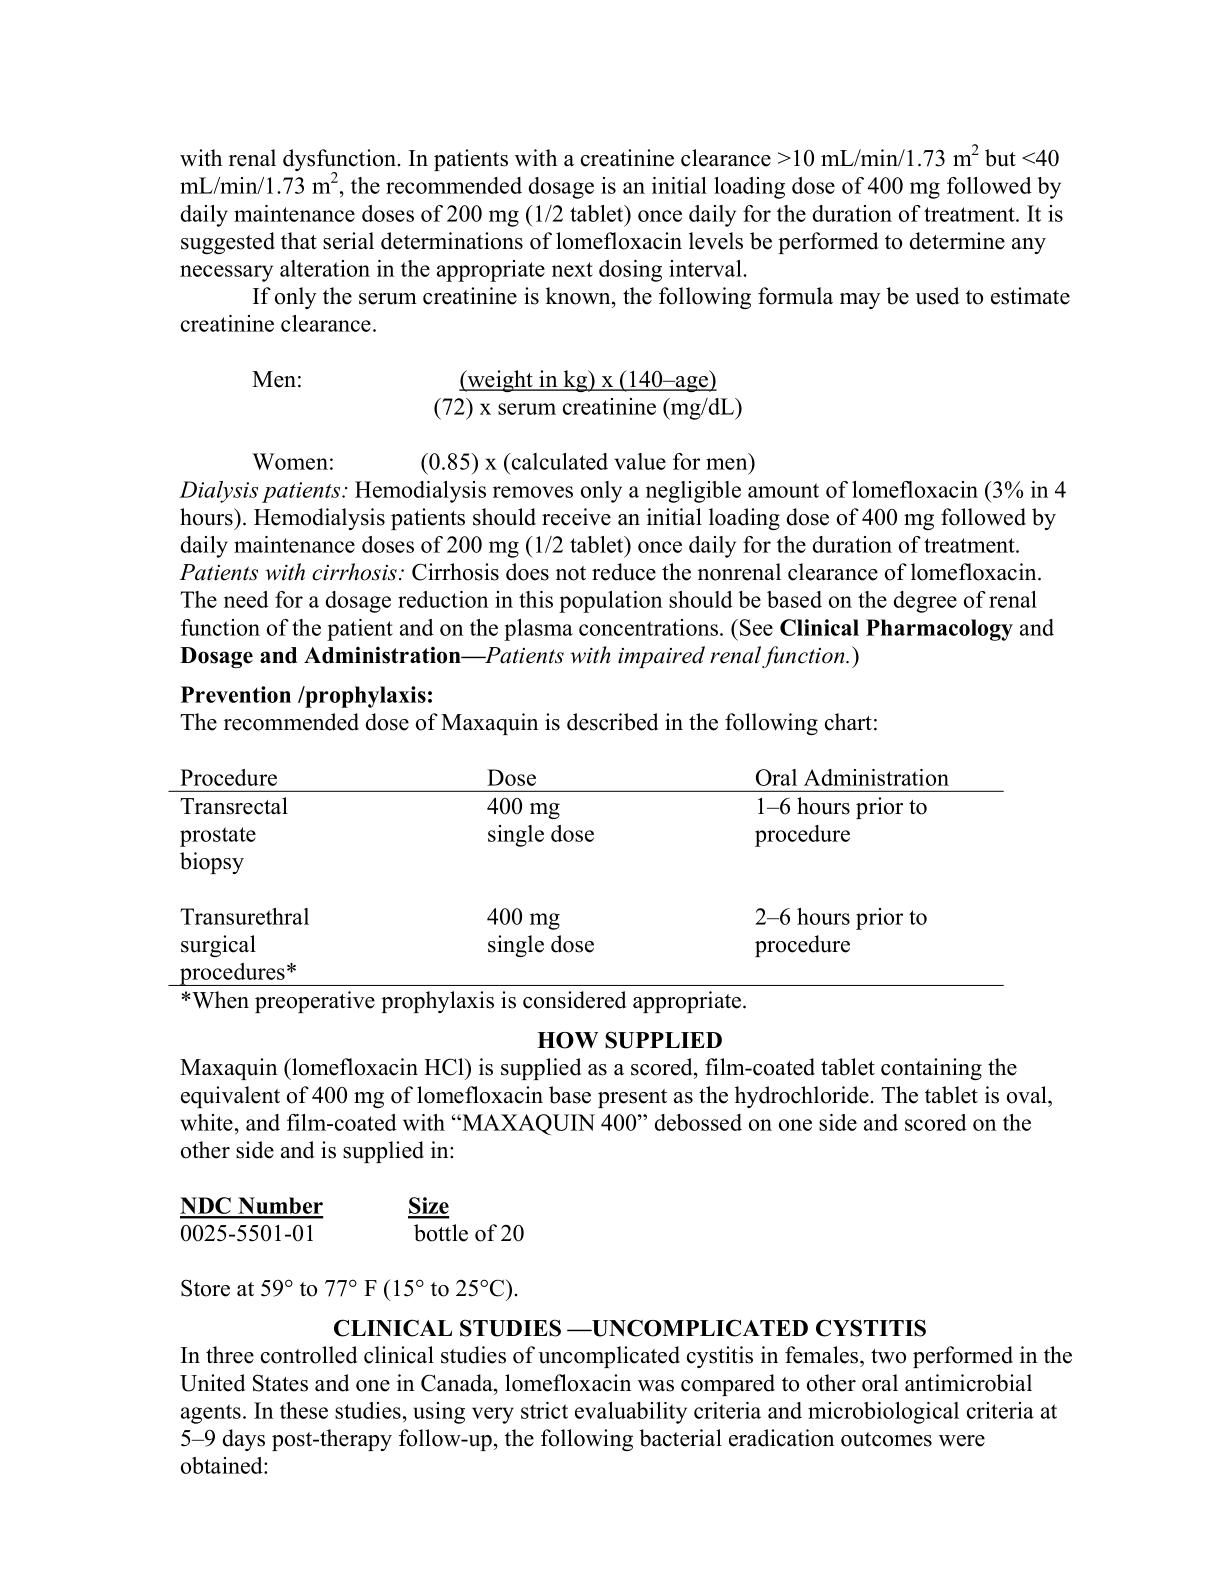nolines: (251, 365, 759, 473), (177, 1193, 528, 1245)
partial_lined: (167, 762, 1004, 987)
